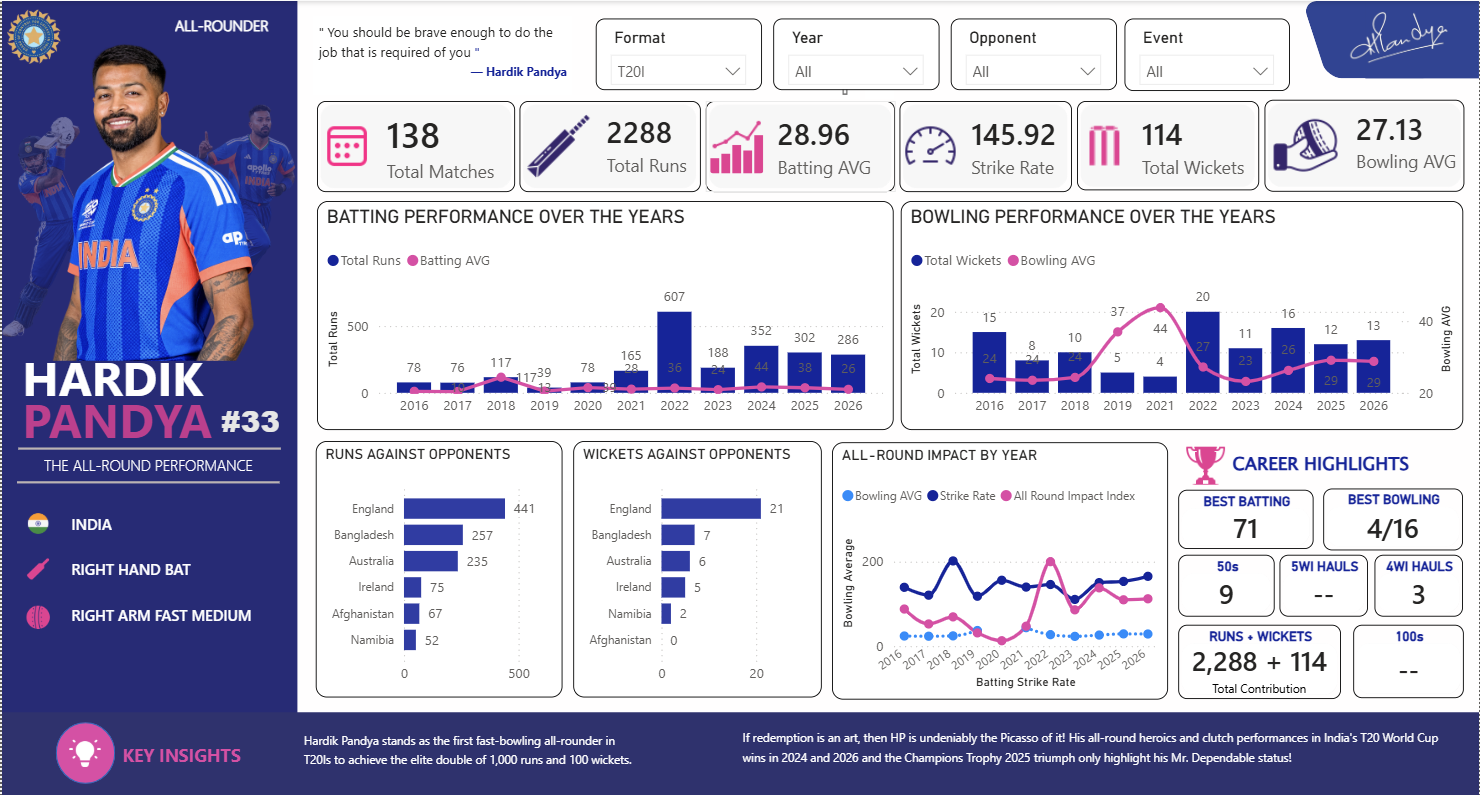

Layout of this report page (visuals, bound fields, positions):
{"tool":"powerbi","page":{"name":"Page 1","canvas":[1336,720],"ordinal":0},"visuals":[{"type":"shape","box":[1176.2,0,145,70],"z":0,"group":"g1"},{"type":"cardVisual","fields":{"Data":["_Measures.Total Matches"]},"box":[285.2,90.2,179.1,82.6],"z":0},{"type":"shape","box":[1233.7,0,102.5,70],"z":1000,"group":"g1"},{"type":"cardVisual","fields":{"Data":["_Measures.Batting Average"]},"box":[637,90.2,171.2,82.4],"z":1000},{"type":"cardVisual","fields":{"Data":["_Measures.Total Runs"]},"box":[468.1,90.2,164,82.6],"z":2000},{"type":"cardVisual","fields":{"Data":["_Measures.Batting Strike Rate"]},"box":[812.2,90.8,155.9,82.4],"z":3000},{"type":"cardVisual","fields":{"Data":["_Measures.Total Wickets"]},"box":[972.2,90.8,164.7,81.2],"z":4000},{"type":"cardVisual","fields":{"Data":["_Measures.Bowling Average"]},"box":[1141.6,89.6,181.2,82.9],"z":5000},{"type":"slicer","fields":{"Values":["Matches.Format"]},"box":[536.6,16.2,150,65],"z":6000},{"type":"slicer","fields":{"Values":["Matches.Year"]},"box":[697.8,16.2,150,65],"z":7000},{"type":"slicer","fields":{"Values":["Matches.Opponent"]},"box":[858.1,15.8,150,65],"z":8000},{"type":"shape","box":[0,0,267.5,720],"z":9000},{"type":"group","id":"g1","title":"Group 1","box":[1176.2,0,160,70],"z":10000},{"type":"shape","box":[0,643.3,1336.2,76.2],"z":11000},{"type":"lineClusteredColumnComboChart","title":"BATTING PERFORMANCE OVER THE YEARS","fields":{"Category":["Matches.Year"],"Y":["_Measures.Total Runs"],"Y2":["_Measures.Batting AVG"]},"box":[285,181.2,521.2,207.5],"z":12000},{"type":"lineClusteredColumnComboChart","title":"BOWLING PERFORMANCE OVER THE YEARS","fields":{"Y":["_Measures.Total Wickets"],"Y2":["_Measures.Bowling AVG"],"Category":["Matches.Year"]},"box":[812.5,181.2,508.8,207.5],"z":13000},{"type":"textbox","box":[282.5,397.5,260,45],"z":14000},{"type":"group","id":"g2","title":"Group 2","box":[13.6,306.4,225,107.1],"z":15000},{"type":"textbox","box":[13.6,306.4,225,70],"z":15000,"group":"g2"},{"type":"image","box":[0,70.2,102.8,270.7],"z":15500},{"type":"image","box":[154.2,70.2,130.7,239.6],"z":15750},{"type":"image","box":[0,35.1,268.2,290.8],"z":16000},{"type":"textbox","box":[13.6,343.9,225,70],"z":16000,"group":"g2"},{"type":"shape","box":[15,378.8,237.5,52.2],"z":16000,"group":"g3"},{"type":"textbox","box":[151.6,7.5,104.4,32.2],"z":17000},{"type":"textbox","box":[33.1,405.5,201.4,30.3],"z":17000,"group":"g3"},{"type":"shape","box":[13.8,409.1,237.5,52.2],"z":18000,"group":"g3"},{"type":"image","box":[21.4,459.3,22.5,27.5],"z":18000},{"type":"image","box":[21.4,500,22.1,27.9],"z":19000},{"type":"image","box":[21.4,544.3,22.5,27.5],"z":20000},{"type":"group","id":"g3","title":"Group 3","box":[13.8,378.8,238.8,82.5],"z":21000},{"type":"clusteredBarChart","title":"RUNS AGAINST OPPONENTS ","fields":{"Category":["Matches.Opponent"],"Y":["_Measures.Total Runs"]},"box":[283.3,398.6,223.3,232.2],"z":22000},{"type":"clusteredBarChart","title":"WICKETS AGAINST OPPONENTS","fields":{"Category":["Matches.Opponent"],"Y":["_Measures.Total Wickets"]},"box":[516.7,397.4,224.4,232.2],"z":23000},{"type":"lineChart","title":"ALL-ROUND IMPACT BY YEAR","fields":{"Category":["Matches.Year"],"Y":["_Measures.Bowling AVG","_Measures.Strike Rate","_Measures.All Round Impact Index"]},"box":[751.2,398.8,303.8,232.5],"z":24000},{"type":"slicer","fields":{"Values":["Matches.Event"]},"box":[1015.8,15.8,149.3,65.5],"z":25000},{"type":"cardVisual","title":"BEST BOWLING","fields":{"Data":["_Measures.Best Bowling"]},"box":[1195,441.2,126.2,56.2],"z":26000},{"type":"cardVisual","title":"BEST BATTING","fields":{"Data":["_Measures.Best Batting"]},"box":[1063.8,442.5,122.5,53.8],"z":27000},{"type":"cardVisual","title":"RUNS + WICKETS","fields":{"Data":["_Measures.Runs + Wickets"]},"box":[1063.8,563.8,147.5,67.5],"z":28000},{"type":"cardVisual","title":"50s","fields":{"Data":["_Measures.Fifties"]},"box":[1063.8,501.2,87.5,56.2],"z":29000},{"type":"cardVisual","title":"100s","fields":{"Data":["_Measures.Centuries"]},"box":[1222.5,563.8,100,66.2],"z":30000},{"type":"cardVisual","title":"5WI HAULS","fields":{"Data":["_Measures.Five Wicket Hauls"]},"box":[1155,501.2,80,56.2],"z":31000},{"type":"cardVisual","title":"4WI HAULS","fields":{"Data":["_Measures.Four Wicket Hauls"]},"box":[1241.2,501.2,80,56.2],"z":32000},{"type":"image","box":[1063.8,398.8,50,38.8],"z":33000},{"type":"textbox","box":[1107.8,401.1,197.8,34.4],"z":34000},{"type":"textbox","box":[57.1,459.3,104.4,32.2],"z":35000},{"type":"textbox","box":[57.1,500,132.9,32.1],"z":36000},{"type":"textbox","box":[57.7,541.6,193.3,31.7],"z":37000},{"type":"group","id":"g4","title":"Group 4","box":[48.6,652.9,54.3,55.7],"z":38000},{"type":"shape","box":[48.6,652.9,53.9,55.7],"z":38500,"group":"g4"},{"type":"textbox","box":[104.3,665.7,125,32.1],"z":39000},{"type":"image","box":[54.6,668,41.7,28.3],"z":39000,"group":"g4"},{"type":"textbox","box":[268,653.5,314.3,56.5],"z":40000},{"type":"textbox","box":[664.8,651.3,653.5,56.5],"z":41000},{"type":"image","box":[0,7.9,57.7,48.6],"z":42000},{"type":"textbox","title":"33","box":[193,354.7,75.2,53.9],"z":43000},{"type":"image","box":[1205.7,8.8,117.8,47.6],"z":44000},{"type":"textbox","box":[282,13.8,234.4,71.4],"z":45000}]}

Visuals, with their boxes in screenshot pixels (x1, y1, x2, y2), scaled from the page's 1336x720 canvas onto the 1480x795 screenshot:
shape: (left=1303, top=0, right=1464, bottom=77)
cardVisual - _Measures.Total Matches: (left=316, top=100, right=514, bottom=191)
shape: (left=1367, top=0, right=1479, bottom=77)
cardVisual - _Measures.Batting Average: (left=706, top=100, right=895, bottom=191)
cardVisual - _Measures.Total Runs: (left=519, top=100, right=700, bottom=191)
cardVisual - _Measures.Batting Strike Rate: (left=900, top=100, right=1072, bottom=191)
cardVisual - _Measures.Total Wickets: (left=1077, top=100, right=1259, bottom=190)
cardVisual - _Measures.Bowling Average: (left=1265, top=99, right=1465, bottom=190)
slicer - Matches.Format: (left=594, top=18, right=761, bottom=90)
slicer - Matches.Year: (left=773, top=18, right=939, bottom=90)
slicer - Matches.Opponent: (left=951, top=17, right=1117, bottom=89)
shape: (left=0, top=0, right=296, bottom=794)
"Group 1" group: (left=1303, top=0, right=1479, bottom=77)
shape: (left=0, top=710, right=1479, bottom=794)
"BATTING PERFORMANCE OVER THE YEARS" lineClusteredColumnComboChart: (left=316, top=200, right=893, bottom=429)
"BOWLING PERFORMANCE OVER THE YEARS" lineClusteredColumnComboChart: (left=900, top=200, right=1464, bottom=429)
textbox: (left=313, top=439, right=601, bottom=489)
"Group 2" group: (left=15, top=338, right=264, bottom=457)
textbox: (left=15, top=338, right=264, bottom=416)
image: (left=0, top=78, right=114, bottom=376)
image: (left=171, top=78, right=316, bottom=342)
image: (left=0, top=39, right=297, bottom=360)
textbox: (left=15, top=380, right=264, bottom=457)
shape: (left=17, top=418, right=280, bottom=476)
textbox: (left=168, top=8, right=284, bottom=44)
textbox: (left=37, top=448, right=260, bottom=481)
shape: (left=15, top=452, right=278, bottom=509)
image: (left=24, top=507, right=49, bottom=538)
image: (left=24, top=552, right=48, bottom=583)
image: (left=24, top=601, right=49, bottom=631)
"Group 3" group: (left=15, top=418, right=280, bottom=509)
"RUNS AGAINST OPPONENTS " clusteredBarChart: (left=314, top=440, right=561, bottom=697)
"WICKETS AGAINST OPPONENTS" clusteredBarChart: (left=572, top=439, right=821, bottom=695)
"ALL-ROUND IMPACT BY YEAR" lineChart: (left=832, top=440, right=1169, bottom=697)
slicer - Matches.Event: (left=1125, top=17, right=1291, bottom=90)
"BEST BOWLING" cardVisual: (left=1324, top=487, right=1464, bottom=549)
"BEST BATTING" cardVisual: (left=1178, top=489, right=1314, bottom=548)
"RUNS + WICKETS" cardVisual: (left=1178, top=623, right=1342, bottom=697)
"50s" cardVisual: (left=1178, top=553, right=1275, bottom=615)
"100s" cardVisual: (left=1354, top=623, right=1465, bottom=696)
"5WI HAULS" cardVisual: (left=1279, top=553, right=1368, bottom=615)
"4WI HAULS" cardVisual: (left=1375, top=553, right=1464, bottom=615)
image: (left=1178, top=440, right=1234, bottom=483)
textbox: (left=1227, top=443, right=1446, bottom=481)
textbox: (left=63, top=507, right=179, bottom=543)
textbox: (left=63, top=552, right=210, bottom=588)
textbox: (left=64, top=598, right=278, bottom=633)
"Group 4" group: (left=54, top=721, right=114, bottom=782)
shape: (left=54, top=721, right=114, bottom=782)
textbox: (left=116, top=735, right=254, bottom=770)
image: (left=60, top=738, right=107, bottom=769)
textbox: (left=297, top=722, right=645, bottom=784)
textbox: (left=736, top=719, right=1460, bottom=782)
image: (left=0, top=9, right=64, bottom=62)
"33" textbox: (left=214, top=392, right=297, bottom=451)
image: (left=1336, top=10, right=1466, bottom=62)
textbox: (left=312, top=15, right=572, bottom=94)
